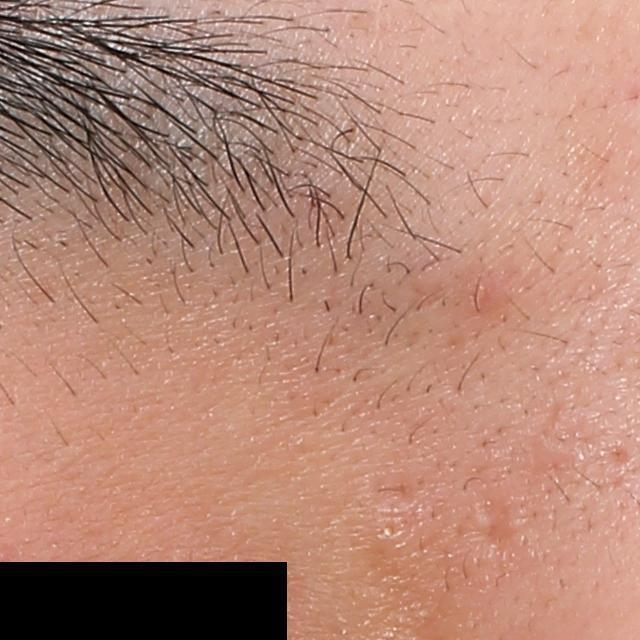atrophic_scar: (452, 484, 524, 553), (363, 454, 428, 509)
